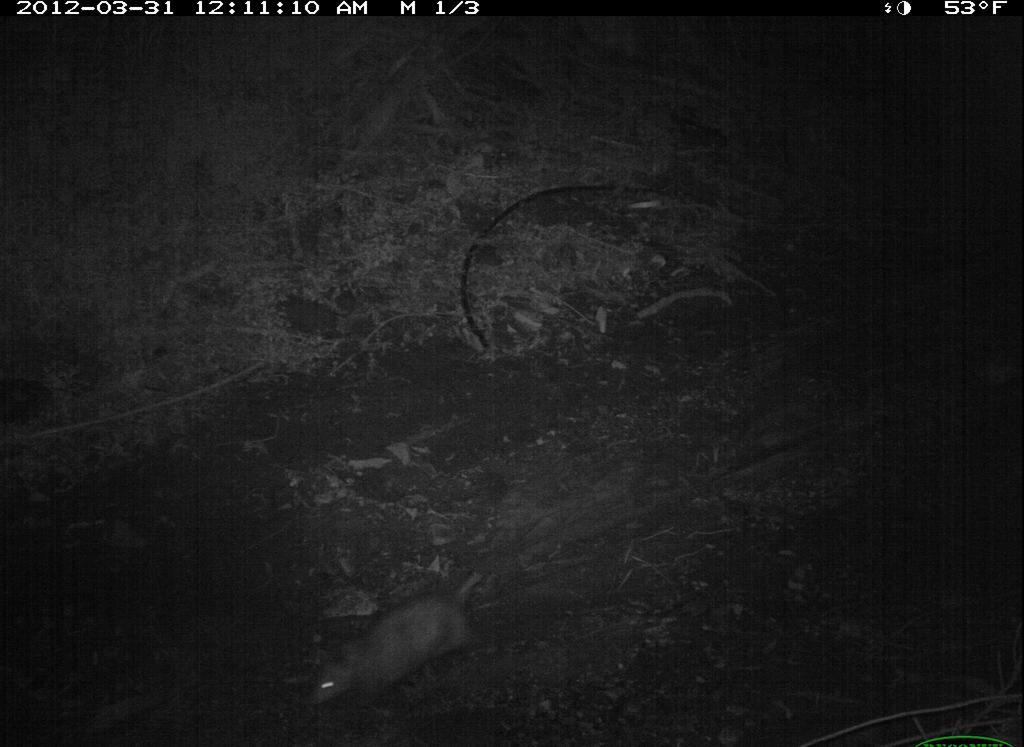opossum: (310, 568, 506, 711)
